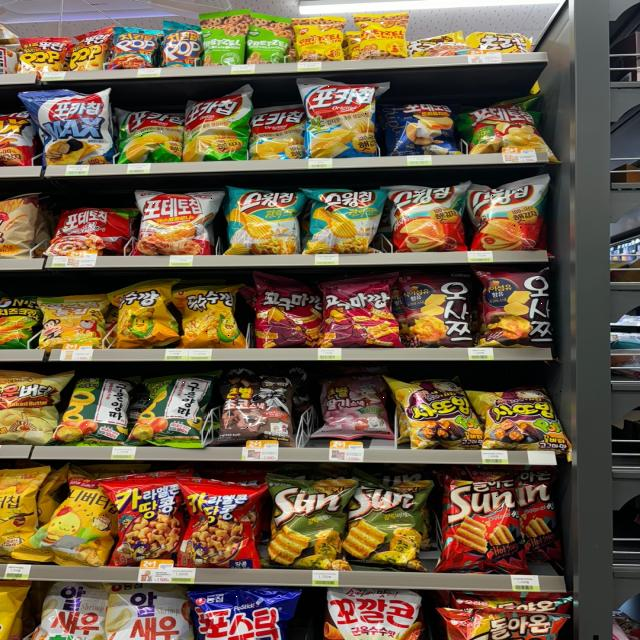product: (442, 478, 528, 566), (182, 479, 264, 567), (103, 473, 184, 559), (267, 483, 352, 561), (31, 91, 116, 166), (305, 78, 385, 154), (351, 483, 428, 561), (481, 271, 555, 352), (400, 272, 480, 346), (468, 177, 546, 251), (482, 391, 569, 457), (131, 191, 220, 255), (190, 592, 306, 640), (186, 84, 256, 160), (222, 376, 302, 442), (308, 182, 386, 248), (321, 279, 397, 345), (226, 184, 300, 251), (249, 277, 323, 343), (142, 377, 210, 447), (394, 188, 468, 252), (334, 586, 421, 640), (112, 281, 178, 351), (67, 375, 132, 445), (402, 382, 474, 442), (322, 382, 394, 439), (175, 288, 242, 346), (123, 108, 182, 159)
